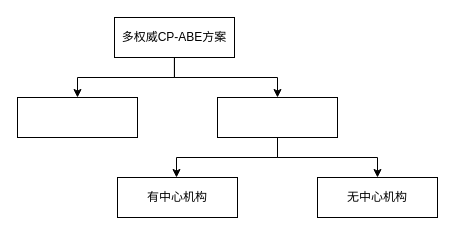
Some shapes in this 455 by 235 pixel diagram are drawn without their labels. Here are the shapes that lost their labels. From the top down, the centre of each, then its label:
(x=77, y=117): 层次化机构
(x=277, y=117): 多授权机构
